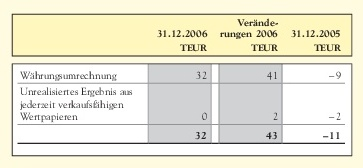table: (0, 0, 363, 168)
